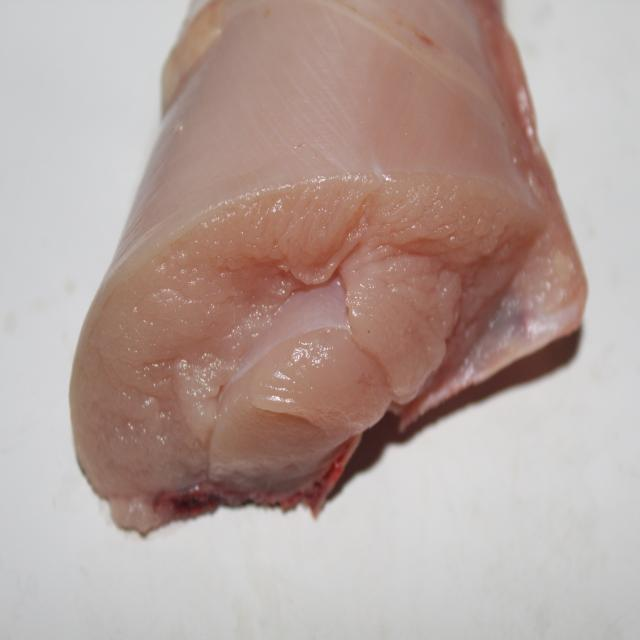chicken: (71, 0, 589, 510)
